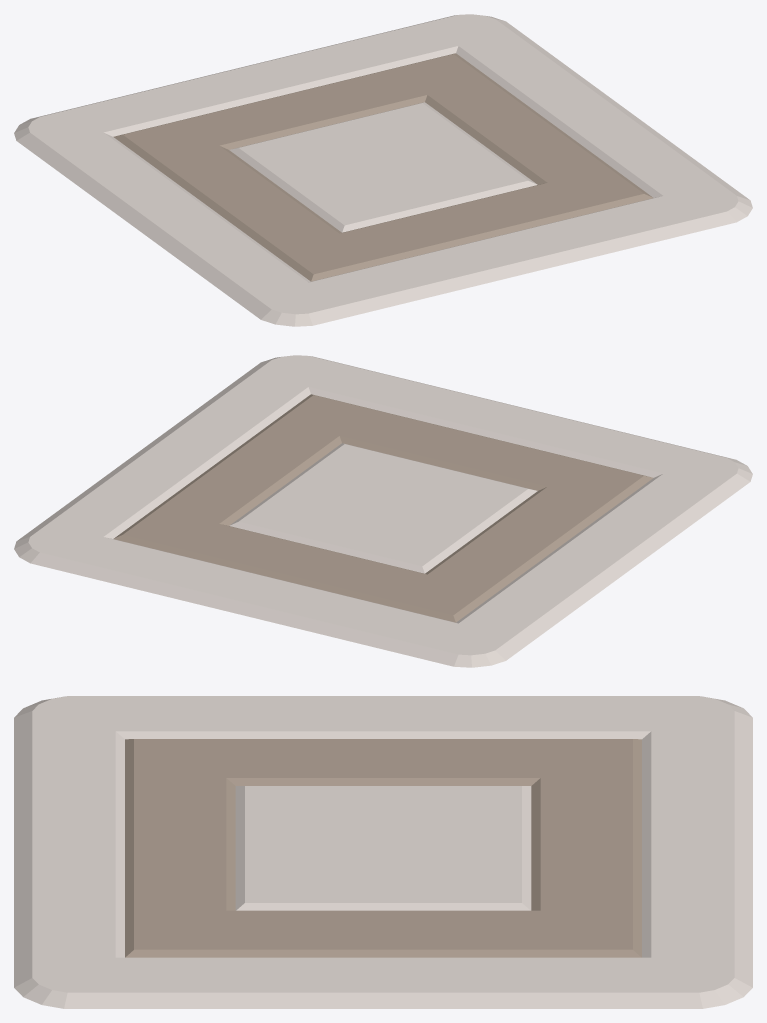
The model's file is Prop_Misc_Rug_Square.obj.
3 views of the same model, one above another, from view 1: azimuth 30°, elevation 25°; view 2: azimuth 150°, elevation 25°; view 3: azimuth 270°, elevation 25° (orthographic). The views are drawn at different scales.
Visible parts, largest first — view 1: object1; view 2: object1; view 3: object1.
Part boxes in pixels (x1,y1,x2,y2): object1: [14, 14, 752, 326]; object1: [14, 355, 752, 667]; object1: [14, 696, 752, 1008].
Size of the model in its own units: 1 by 0.0125 by 1.
